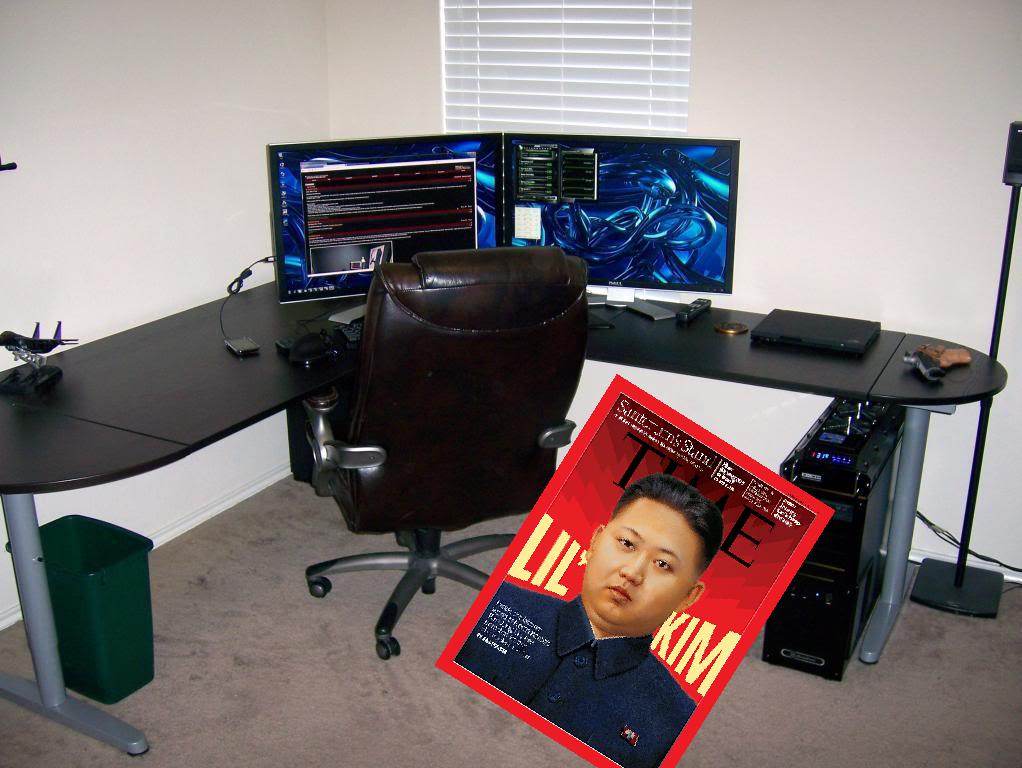times: (430, 367, 836, 768)
